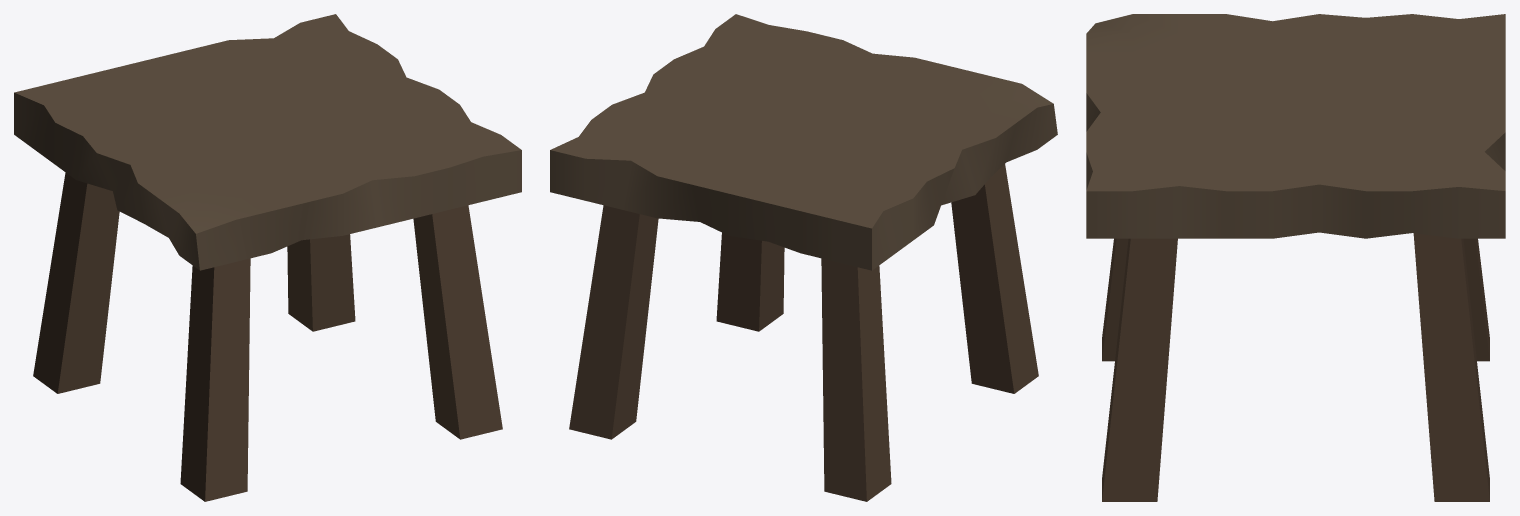
The model's file is SIDE TABLE for player house.fbx.
3 views of the same model, side by side, from view 1: azimuth 30°, elevation 25°; view 2: azimuth 150°, elevation 25°; view 3: azimuth 270°, elevation 25° (orthographic). The views are drawn at different scales.
Visible parts, largest first — view 1: pCube1; view 2: pCube1; view 3: pCube1.
Boxes of the visible parts, box(x1,y1,x2,y2) form: pCube1: box(14, 14, 521, 501); pCube1: box(550, 14, 1057, 501); pCube1: box(1086, 14, 1505, 501).
Size of the model in its own units: 6.8 by 5.68 by 6.8.
